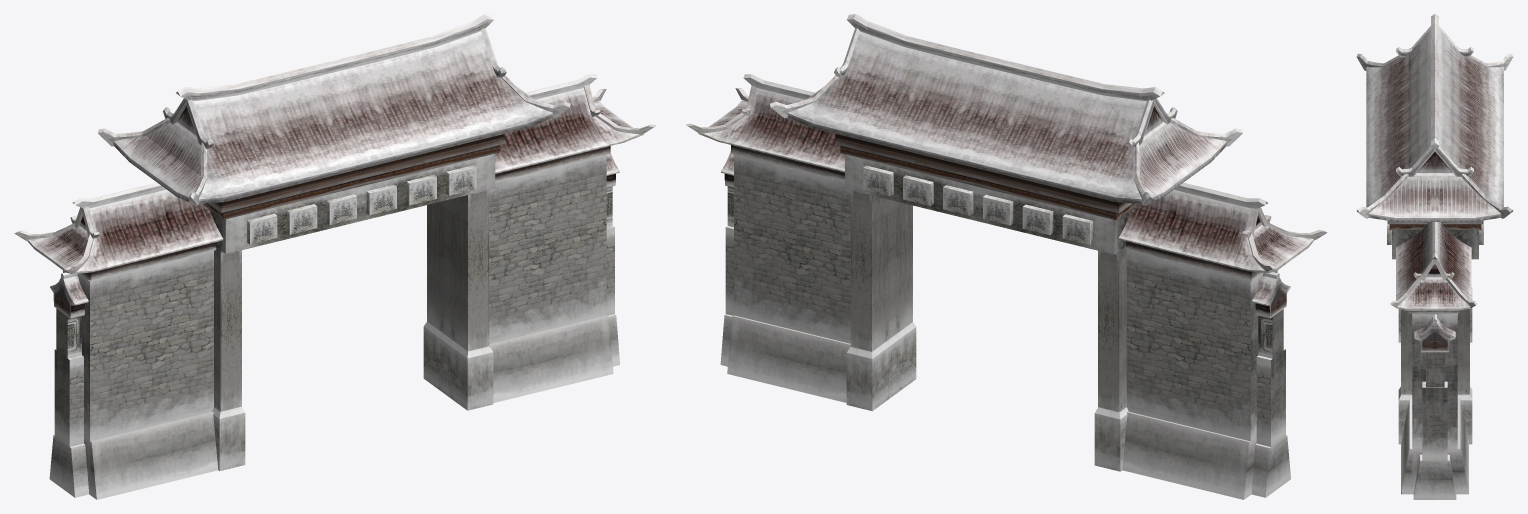
Rendered from snow-middledam-01.glb.
3 renders of one model, left to right at view 1: azimuth 30°, elevation 25°; view 2: azimuth 150°, elevation 25°; view 3: azimuth 270°, elevation 25°, orthographic. The views are drawn at different scales.
Parts seen in each view (by area): view 1: snow-middledam-02, snow-middledam-01; view 2: snow-middledam-02, snow-middledam-01; view 3: snow-middledam-01, snow-middledam-02.
Part boxes in pixels (x1,y1,x2,y2): snow-middledam-02: (14,74,655,499); snow-middledam-01: (98,14,571,471); snow-middledam-02: (686,74,1327,499); snow-middledam-01: (768,14,1242,471); snow-middledam-01: (1356,14,1513,444); snow-middledam-02: (1390,222,1477,499).
Size of the model in its own units: 22.82 by 13.67 by 6.24.
2 materials, 2 textured.
